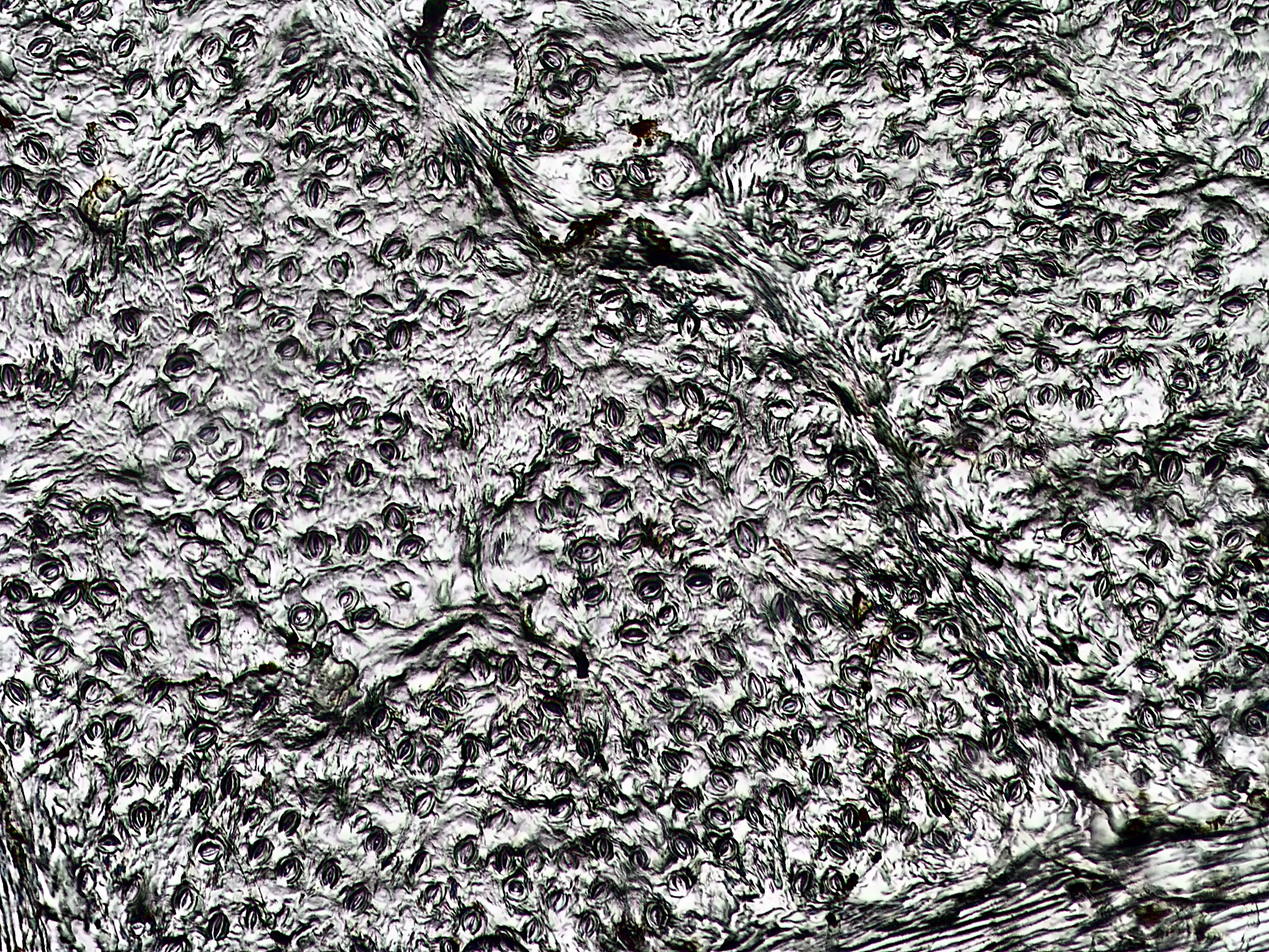stomata: (816, 60, 854, 90), (615, 619, 652, 649), (315, 148, 351, 178), (622, 155, 658, 185), (190, 682, 227, 711), (189, 615, 223, 646), (763, 84, 802, 111), (708, 307, 743, 337), (0, 577, 36, 606), (192, 837, 226, 867), (452, 834, 481, 869), (718, 349, 745, 386), (246, 505, 279, 535), (591, 446, 628, 472), (206, 469, 243, 495), (587, 323, 624, 349), (718, 736, 749, 767), (1, 721, 31, 753), (1001, 775, 1029, 809), (981, 171, 1016, 198), (626, 301, 653, 336), (1002, 408, 1038, 434), (35, 178, 66, 208), (734, 520, 763, 552), (919, 269, 948, 301), (823, 838, 857, 865), (184, 724, 218, 751), (452, 226, 479, 260), (301, 402, 337, 427), (1236, 144, 1267, 173), (923, 16, 954, 45), (393, 535, 432, 558), (929, 91, 968, 114), (230, 285, 262, 313), (642, 385, 670, 417), (884, 690, 918, 716), (583, 164, 617, 190), (32, 640, 70, 663), (60, 47, 98, 70), (274, 855, 303, 885), (111, 757, 140, 787), (372, 437, 403, 465), (121, 69, 152, 97), (20, 137, 51, 165), (705, 769, 741, 793), (200, 571, 232, 598), (299, 529, 331, 556), (161, 353, 197, 377), (769, 455, 795, 488), (143, 212, 182, 234), (208, 60, 241, 86), (673, 15, 707, 40), (166, 442, 195, 471), (97, 647, 128, 674), (185, 312, 217, 338), (301, 178, 327, 210), (981, 62, 1015, 86), (863, 700, 891, 729), (260, 466, 289, 494), (313, 104, 342, 132), (676, 311, 704, 340), (837, 803, 864, 833), (344, 458, 371, 488), (193, 121, 220, 151), (288, 129, 315, 159), (995, 251, 1022, 281), (91, 343, 117, 374), (86, 580, 121, 603), (387, 321, 412, 353), (144, 674, 168, 707), (25, 611, 58, 635), (78, 502, 111, 526), (351, 605, 384, 629), (373, 410, 406, 434), (1158, 452, 1182, 485), (251, 689, 279, 717), (125, 621, 153, 649), (711, 837, 740, 864), (408, 791, 437, 818), (344, 526, 371, 555), (678, 381, 707, 408), (1230, 769, 1259, 796), (857, 233, 891, 256), (595, 286, 629, 309), (697, 424, 723, 454), (667, 833, 697, 859), (118, 875, 144, 905), (306, 458, 332, 488), (377, 236, 407, 262), (1024, 120, 1054, 146), (826, 197, 852, 227), (1156, 744, 1186, 770), (632, 575, 663, 600), (248, 836, 273, 867), (1237, 643, 1268, 668), (559, 487, 583, 519), (1, 167, 25, 199), (764, 395, 796, 419), (76, 865, 99, 898), (744, 797, 765, 833), (78, 676, 105, 704), (417, 246, 444, 274), (807, 151, 834, 179), (169, 885, 195, 914), (288, 603, 317, 629), (289, 71, 318, 97), (1202, 222, 1231, 248), (1082, 171, 1111, 197), (763, 180, 789, 209), (1017, 215, 1046, 241), (343, 886, 368, 916), (805, 31, 835, 56), (863, 175, 888, 205), (1145, 541, 1170, 571), (1094, 216, 1118, 247), (536, 46, 567, 70), (1057, 520, 1089, 543), (1132, 239, 1167, 260), (539, 694, 566, 721), (826, 685, 852, 713), (979, 689, 1007, 715), (408, 849, 434, 877), (275, 810, 301, 838), (167, 71, 193, 99), (75, 141, 103, 167), (252, 101, 278, 129), (1243, 708, 1269, 736), (745, 669, 767, 702), (13, 225, 35, 258), (442, 153, 464, 186), (841, 663, 870, 688), (693, 660, 718, 689), (1034, 256, 1063, 281), (1180, 599, 1209, 624), (295, 486, 325, 510), (333, 209, 363, 233), (673, 351, 703, 375), (965, 398, 995, 422), (578, 582, 609, 605), (570, 538, 601, 561), (657, 750, 688, 773), (108, 107, 139, 130), (380, 132, 403, 163), (985, 726, 1007, 758), (773, 781, 795, 813), (31, 559, 63, 581), (1132, 658, 1164, 680), (460, 907, 487, 933), (3, 676, 29, 703), (420, 154, 446, 181), (1135, 705, 1162, 731), (671, 786, 696, 814), (590, 833, 615, 861), (146, 757, 171, 785), (53, 583, 81, 608), (456, 12, 484, 37), (867, 303, 895, 328), (332, 587, 361, 611), (1175, 688, 1204, 712), (541, 84, 574, 105), (767, 593, 790, 623), (946, 657, 976, 680), (469, 651, 492, 681), (245, 741, 268, 771), (1177, 104, 1207, 127), (1035, 163, 1066, 185), (1167, 372, 1198, 394), (239, 161, 265, 187), (940, 701, 965, 728), (644, 901, 669, 928), (324, 254, 349, 281), (896, 60, 923, 85), (985, 447, 1010, 474), (928, 789, 952, 817), (428, 703, 456, 727), (548, 797, 576, 821), (495, 843, 516, 875), (540, 367, 564, 395), (307, 315, 339, 336), (239, 246, 267, 270), (26, 36, 54, 60), (1032, 188, 1064, 209), (906, 299, 930, 327), (876, 266, 904, 290), (207, 912, 230, 941), (346, 106, 365, 141), (508, 765, 530, 795), (523, 844, 545, 874), (240, 903, 262, 933), (316, 860, 338, 890), (906, 186, 937, 207), (1017, 444, 1048, 465), (483, 806, 509, 831), (29, 515, 55, 540), (276, 259, 301, 285), (112, 33, 137, 59), (201, 36, 226, 62), (929, 829, 956, 853), (392, 735, 416, 762), (665, 871, 692, 895), (939, 60, 966, 84), (1128, 767, 1155, 791), (359, 293, 393, 312), (665, 463, 693, 486), (733, 701, 756, 729), (705, 804, 733, 827), (185, 193, 208, 221), (965, 219, 993, 242), (831, 455, 863, 475), (65, 266, 85, 298), (804, 479, 826, 508), (73, 0, 102, 22), (359, 171, 388, 193), (799, 443, 828, 465), (934, 384, 963, 406), (628, 731, 649, 761), (516, 716, 537, 746), (218, 769, 239, 799), (761, 735, 786, 760), (791, 724, 816, 749), (437, 294, 462, 319), (789, 639, 813, 665), (575, 913, 601, 937), (957, 266, 983, 290), (672, 719, 699, 742), (586, 879, 613, 902), (1059, 226, 1082, 253), (953, 432, 980, 455), (499, 655, 519, 686), (1191, 639, 1222, 659), (682, 572, 710, 594), (776, 694, 804, 716), (664, 684, 692, 706), (173, 237, 201, 259), (1231, 15, 1259, 37), (1095, 325, 1123, 347), (1061, 324, 1090, 345), (805, 610, 830, 634), (630, 846, 654, 871), (363, 829, 388, 853), (112, 716, 137, 740), (367, 706, 392, 730), (345, 398, 369, 423), (1034, 350, 1059, 374), (637, 422, 663, 445), (872, 13, 898, 36), (935, 622, 962, 644), (834, 723, 856, 750), (522, 917, 544, 944), (811, 757, 830, 788), (973, 127, 1004, 146), (958, 736, 979, 764), (1217, 295, 1246, 315), (1137, 497, 1157, 526), (713, 643, 737, 667), (557, 847, 581, 871), (165, 391, 189, 415), (965, 0, 997, 18), (896, 822, 921, 845), (697, 710, 722, 733), (489, 730, 514, 753), (384, 506, 407, 531), (956, 145, 981, 168), (574, 734, 596, 760), (893, 623, 920, 644), (902, 733, 929, 754), (891, 773, 912, 800), (552, 764, 573, 791), (419, 886, 446, 907), (570, 69, 597, 90), (536, 120, 557, 147), (605, 402, 625, 430), (132, 804, 152, 832), (815, 107, 843, 127), (1147, 309, 1167, 337), (280, 42, 303, 66), (931, 231, 955, 254), (1073, 389, 1096, 413), (619, 532, 644, 554), (865, 786, 887, 811), (36, 671, 58, 696), (898, 132, 920, 157), (1203, 454, 1225, 479), (314, 357, 340, 378), (395, 277, 421, 298), (228, 26, 254, 47), (852, 480, 879, 500), (188, 788, 208, 815), (1114, 476, 1141, 496), (509, 113, 532, 136), (1239, 356, 1262, 379), (445, 685, 467, 709), (778, 131, 802, 153), (798, 232, 822, 254), (1130, 574, 1154, 596), (600, 489, 625, 510), (348, 812, 373, 833), (843, 37, 868, 58), (284, 215, 313, 233), (179, 541, 205, 561), (0, 366, 20, 392), (845, 151, 865, 177), (763, 222, 789, 242), (1117, 730, 1143, 750), (388, 580, 415, 599), (988, 287, 1015, 306), (1229, 559, 1256, 578), (1124, 177, 1158, 192), (1024, 288, 1054, 305), (869, 639, 891, 662), (656, 604, 678, 627), (545, 890, 568, 912), (379, 852, 401, 875), (173, 517, 196, 539), (429, 390, 452, 412), (352, 336, 374, 359), (993, 369, 1015, 392), (1223, 529, 1245, 552), (875, 577, 896, 601), (505, 880, 529, 901), (282, 646, 310, 664), (118, 309, 139, 333), (1081, 290, 1102, 314), (1036, 385, 1057, 409), (183, 282, 208, 302), (1217, 584, 1237, 609), (671, 517, 698, 535), (272, 904, 290, 931), (1002, 330, 1024, 352), (596, 783, 617, 806), (1171, 0, 1192, 23), (1203, 672, 1226, 693), (716, 579, 736, 603), (1195, 264, 1219, 284), (267, 313, 295, 330), (242, 809, 267, 828), (30, 371, 52, 392), (1044, 313, 1065, 335), (826, 871, 846, 894), (968, 369, 991, 389), (1188, 330, 1211, 350), (1144, 212, 1171, 229), (454, 776, 479, 794), (1131, 27, 1157, 44), (419, 754, 439, 776), (1249, 606, 1269, 628), (1093, 572, 1108, 601), (196, 424, 220, 442), (1133, 0, 1157, 18), (709, 401, 733, 419), (277, 339, 298, 359), (906, 217, 927, 237), (557, 434, 579, 453), (791, 870, 810, 892), (1096, 365, 1118, 384), (1182, 564, 1204, 583), (96, 835, 120, 852), (114, 819, 128, 848), (1154, 276, 1181, 291), (1124, 285, 1140, 310), (1185, 535, 1210, 551), (1161, 633, 1180, 654), (85, 720, 103, 742), (1090, 437, 1112, 455), (1109, 292, 1126, 315), (461, 740, 477, 764), (1103, 638, 1123, 657), (537, 502, 553, 525), (1136, 619, 1159, 635), (906, 587, 925, 606), (1112, 358, 1131, 377), (639, 784, 659, 802), (863, 759, 880, 780), (1141, 598, 1157, 620), (1122, 453, 1140, 472), (1202, 354, 1224, 369), (1094, 349, 1112, 365), (118, 336, 131, 357), (1137, 158, 1158, 171), (1056, 592, 1077, 605), (1097, 543, 1109, 558), (1144, 280, 1153, 295)
